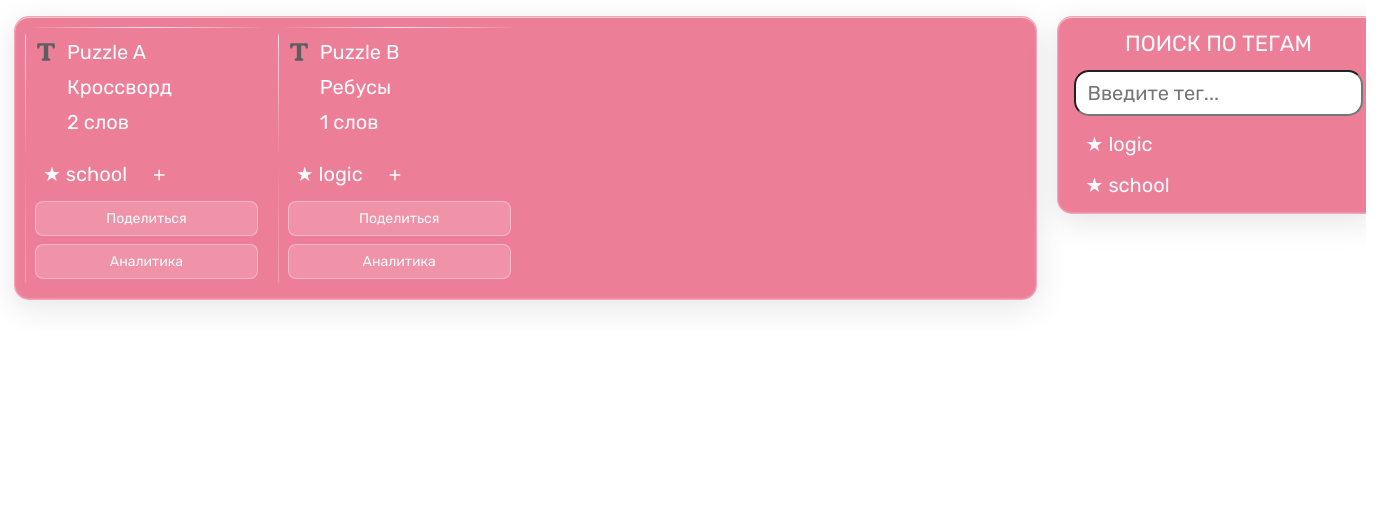
Scenario: SavedPuzzles › loads and expands analytics for a puzzle
The width and height of the screenshot is (1378, 513).
expect the text "Puzzle A" is shown: met, box [67,37,146,67]
Click the button titled "Аналитика" below "Puzzle A": (146,262) [35,244,258,279]
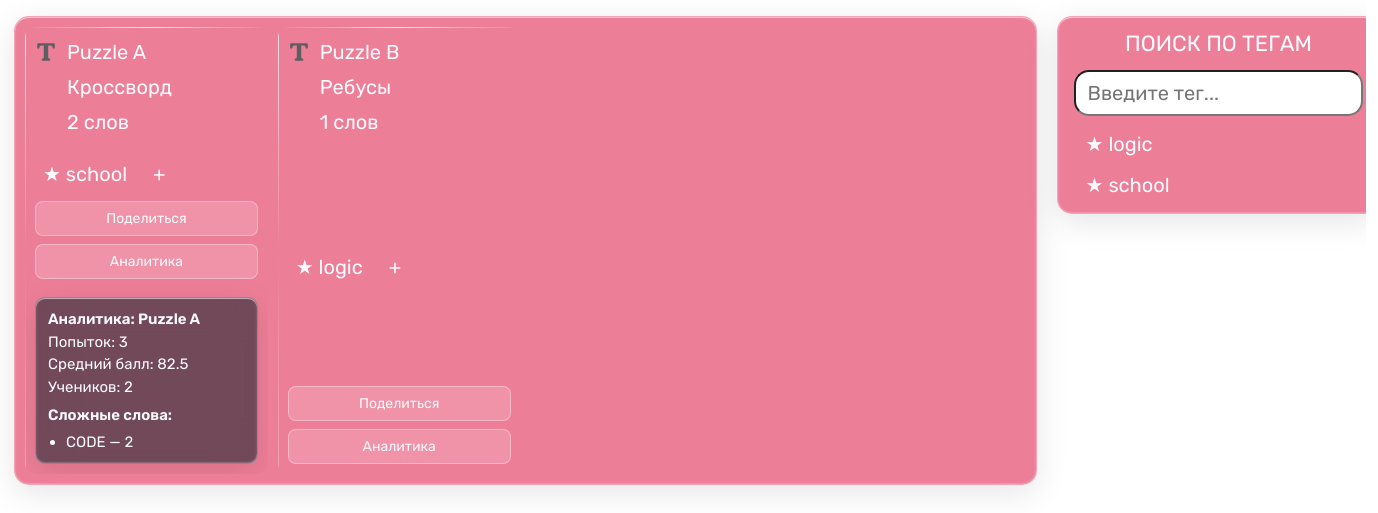
expect the element with test id "analytics-p1" shows "Попыток: 3": met, box [35,297,258,464]
expect the element with test id "analytics-p1" shows "Средний балл: 82.5": met, box [35,297,258,464]
expect the element with test id "analytics-p1" shows "CODE": met, box [66,432,106,450]
Click the button titled "Аналитика" below "Кроссворд": (146,262) [35,244,258,279]
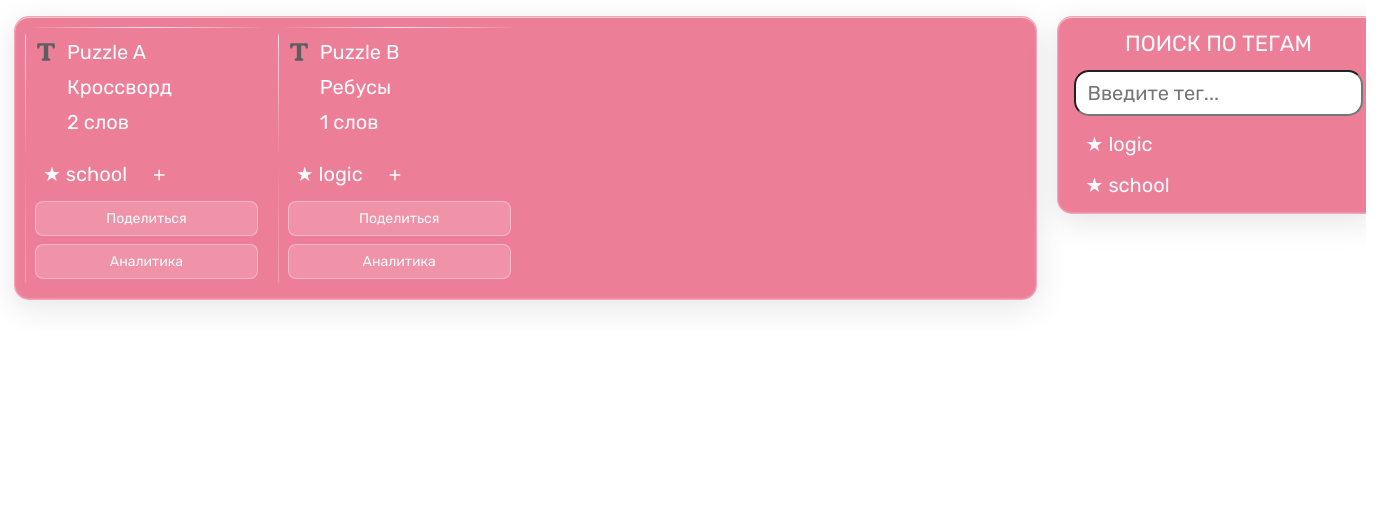
expect the element with test id "analytics-p1" is gone: met
